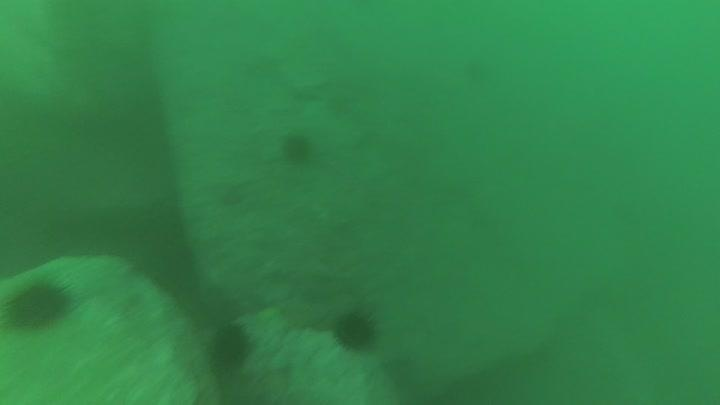echinus: (3, 275, 76, 333), (206, 320, 254, 374), (330, 307, 381, 354), (278, 130, 316, 167)
